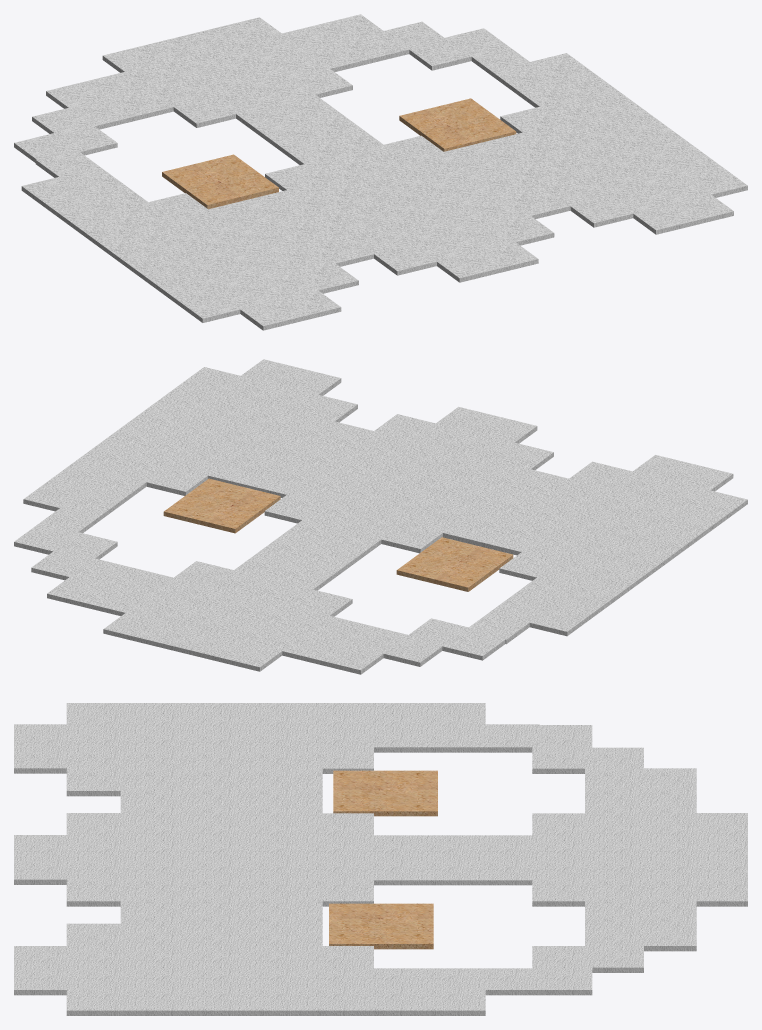
The model's file is fantome 4.fbx.
3 views of the same model, one above another, from view 1: azimuth 30°, elevation 25°; view 2: azimuth 150°, elevation 25°; view 3: azimuth 270°, elevation 25° (orthographic). The views are drawn at different scales.
Visible parts, largest first — view 1: Enduit - Blanc nature, Bois - OSB 02; view 2: Enduit - Blanc nature, Bois - OSB 02; view 3: Enduit - Blanc nature, Bois - OSB 02.
Boxes of the visible parts, <box> form: Enduit - Blanc nature: <box>14,14,747,330</box>; Bois - OSB 02: <box>162,98,516,209</box>; Enduit - Blanc nature: <box>14,359,747,674</box>; Bois - OSB 02: <box>163,478,513,591</box>; Enduit - Blanc nature: <box>14,703,747,1015</box>; Bois - OSB 02: <box>329,770,437,949</box>.
Size of the model in its own units: 762 by 769 by 6.
Materials: 2 (2 with a texture image).
